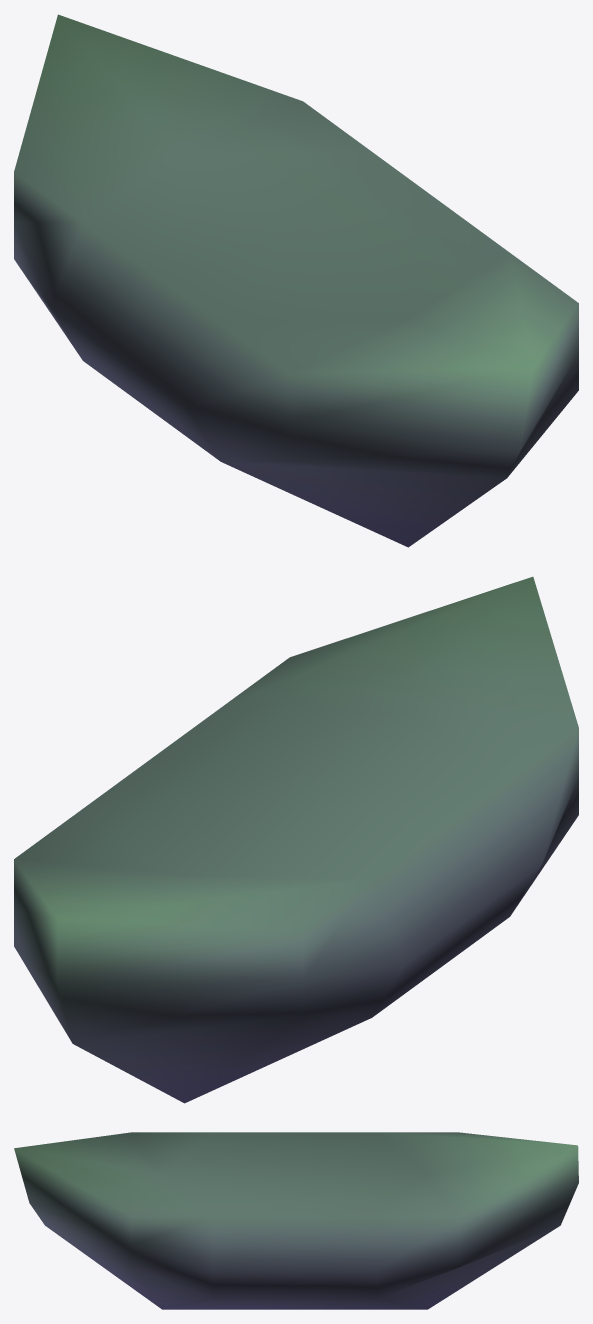
The model's file is boat.fbx.
3 views of the same model, one above another, from view 1: azimuth 30°, elevation 25°; view 2: azimuth 150°, elevation 25°; view 3: azimuth 270°, elevation 25° (orthographic). The views are drawn at different scales.
Visible parts, largest first — view 1: Boat; view 2: Boat; view 3: Boat.
Boxes of the visible parts, x1=… form: Boat: x1=14, y1=14, x2=578, y2=547; Boat: x1=14, y1=576, x2=578, y2=1103; Boat: x1=14, y1=1132, x2=578, y2=1309.
Size of the model in its own units: 13.74 by 10.27 by 32.03.
1 material, 1 textured.
